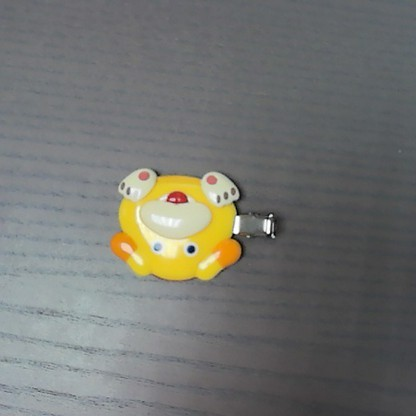dogclip: (111, 164, 280, 283)
